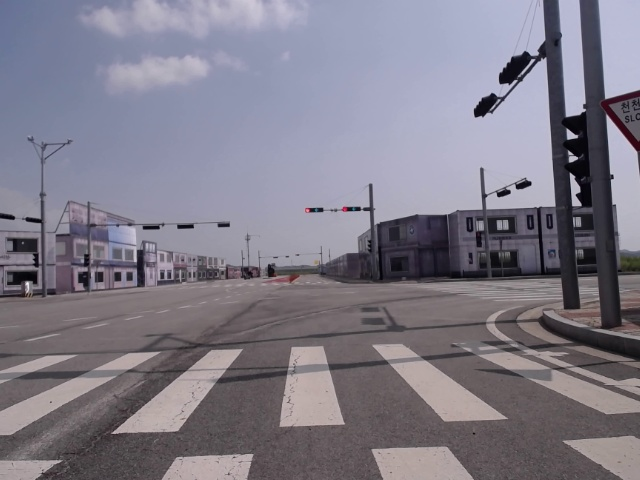left_green_4: (343, 207, 360, 212), (306, 208, 323, 212)
